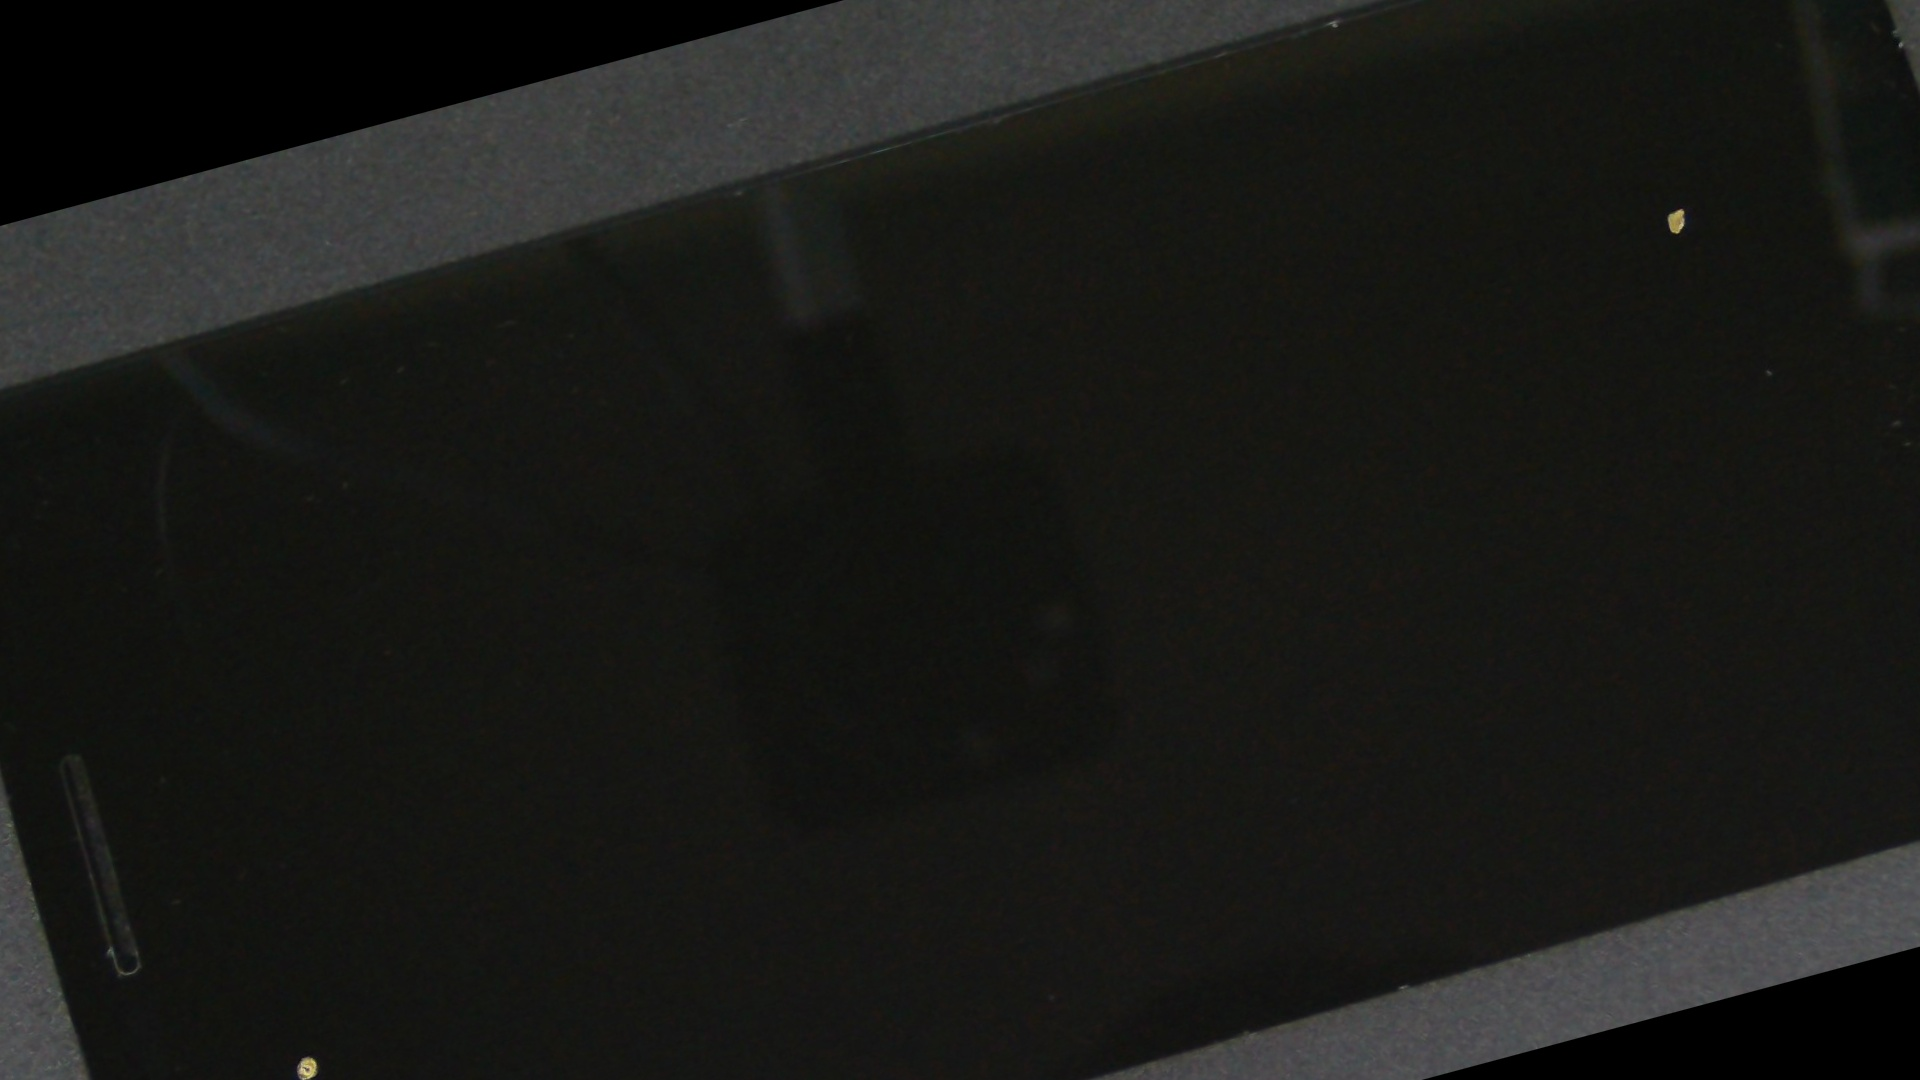oil: (713, 0, 1920, 654), (25, 585, 539, 1080)
